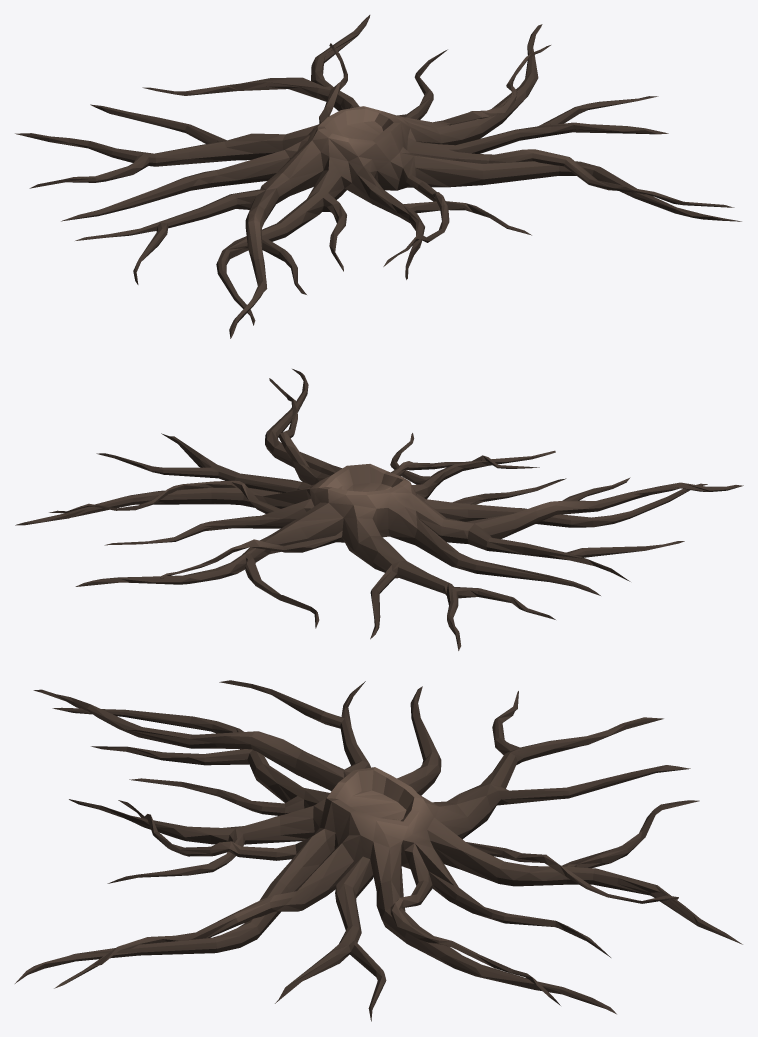
File: Jungle_Roots_C.fbx
3 renders of one model, top to bottom at view 1: azimuth 30°, elevation 25°; view 2: azimuth 150°, elevation 25°; view 3: azimuth 270°, elevation 25°, orthographic. The views are drawn at different scales.
Parts seen in each view (by area): view 1: Jungle_Roots_C; view 2: Jungle_Roots_C; view 3: Jungle_Roots_C.
Part boxes in pixels (bbox=[...]): Jungle_Roots_C: bbox=[15, 15, 741, 338]; Jungle_Roots_C: bbox=[15, 369, 743, 650]; Jungle_Roots_C: bbox=[15, 680, 742, 1021].
Size of the model in its own units: 11.44 by 1.09 by 10.31.
1 material, 1 textured.
